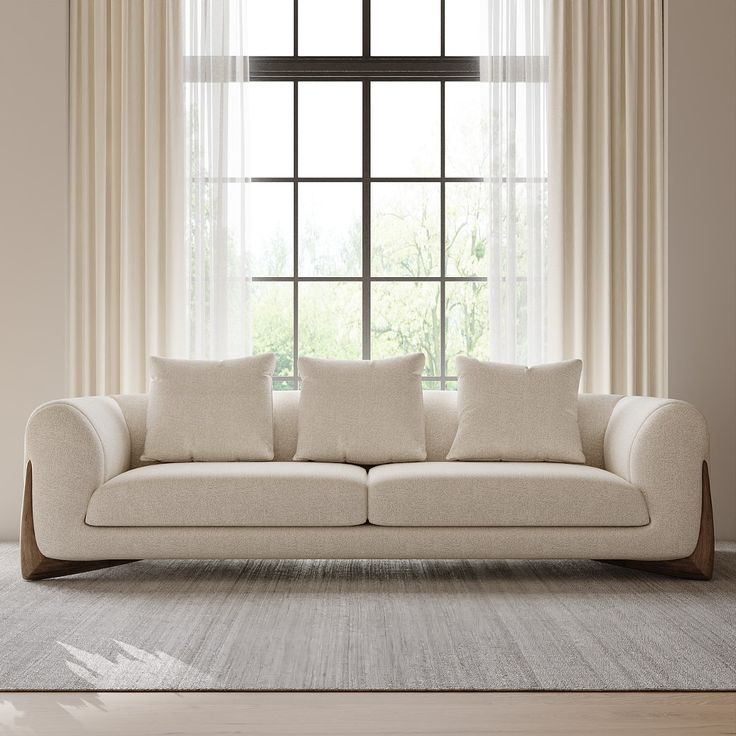backrest: (113, 395, 147, 466), (582, 399, 613, 466), (426, 391, 456, 460), (275, 392, 299, 460)
base: (97, 523, 653, 557)
leftarmrest: (606, 397, 707, 557)
leg: (598, 462, 713, 579), (20, 461, 134, 579)
pillow: (294, 354, 426, 464), (446, 356, 584, 460), (142, 354, 274, 462)
rightarmrest: (25, 397, 134, 560)
seat: (87, 462, 652, 527)
